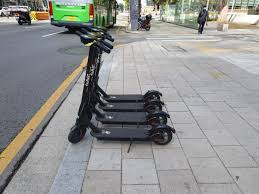kick_body: (101, 127, 149, 140), (98, 112, 145, 124), (105, 101, 144, 110), (107, 94, 143, 100)
kick_handler: (75, 31, 109, 52)
kick_neck: (78, 47, 93, 114)
kick_wheel: (154, 125, 171, 145), (70, 125, 85, 142), (150, 112, 168, 125), (146, 100, 161, 111), (147, 90, 160, 100)
